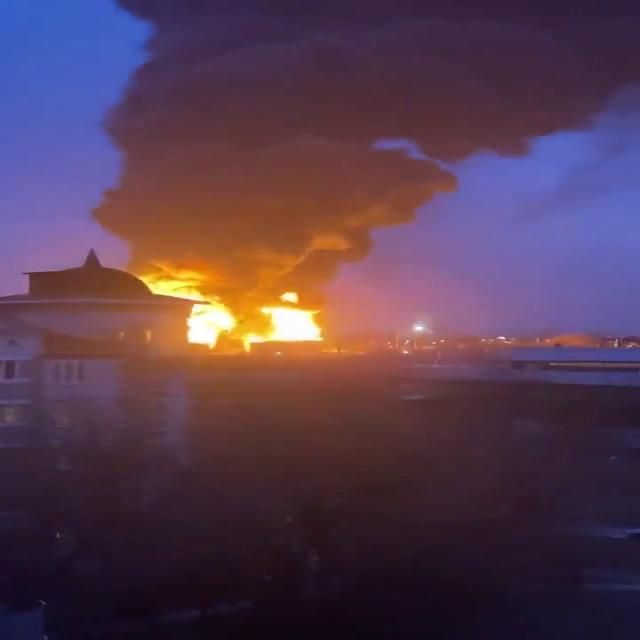Fire: (145, 280, 322, 354)
Smoke: (92, 0, 640, 308)
